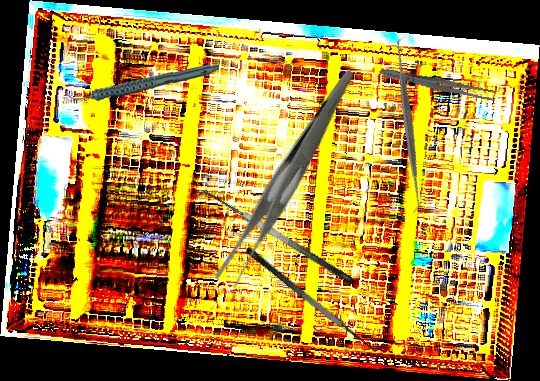Dressing Forceps: (169, 69, 409, 294), (377, 64, 499, 104)
Handpiece: (68, 60, 220, 105)
Spatula Surgical: (319, 36, 497, 215), (192, 180, 356, 299), (243, 235, 389, 362)
